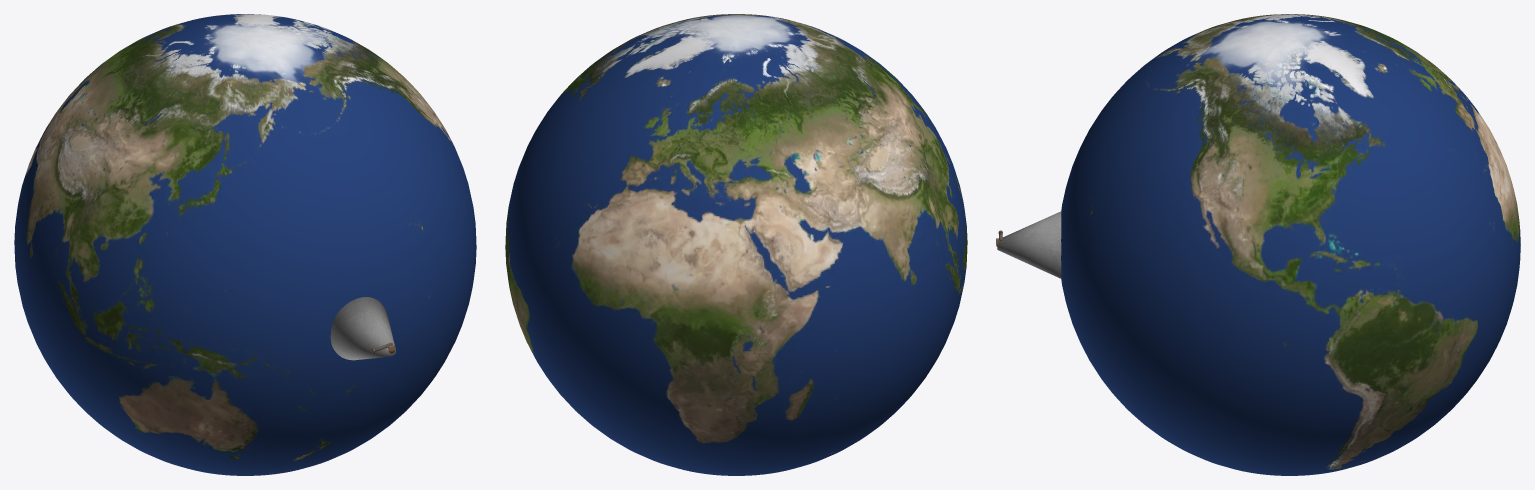
File: newton_cannon.glb
3 views of the same model, side by side, from view 1: azimuth 30°, elevation 25°; view 2: azimuth 150°, elevation 25°; view 3: azimuth 270°, elevation 25° (orthographic).
Parts seen in each view (by area): view 1: earth_surface, mountain; view 2: earth_surface; view 3: earth_surface, mountain.
Boxes of the visible parts, x1,y1,x2,y2 form: earth_surface: (14, 14, 476, 475); mountain: (330, 297, 395, 360); earth_surface: (505, 14, 967, 475); earth_surface: (1061, 14, 1520, 475); mountain: (997, 211, 1061, 278).
Size of the model in its own units: 2 by 2 by 2.27.
Materials: 4 (2 with a texture image).
